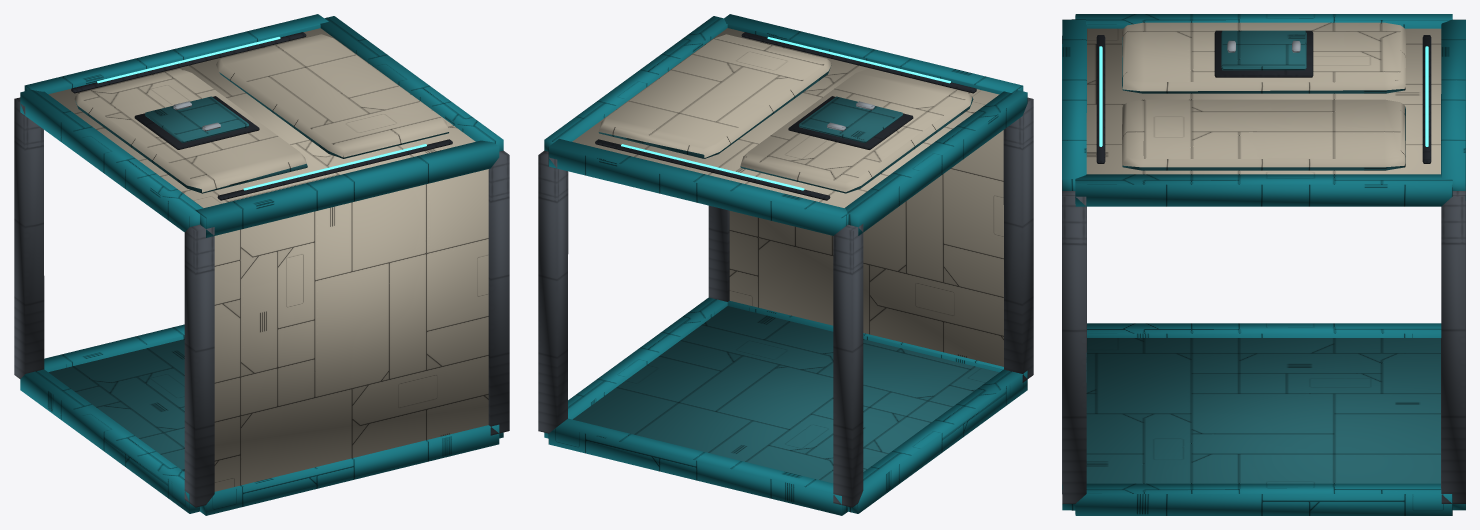
File: pressure_corridor_tee_lod2.glb
3 views of the same model, side by side, from view 1: azimuth 30°, elevation 25°; view 2: azimuth 150°, elevation 25°; view 3: azimuth 270°, elevation 25° (orthographic). The views are drawn at different scales.
Parts seen in each view (by area): view 1: LOD2_Hull, LOD2_Livery, LOD2_Mechanical, LOD2_Armor, LOD2_MechanicalDark, LOD2_Lights_Cyan; view 2: LOD2_Hull, LOD2_Livery, LOD2_Armor, LOD2_Mechanical, LOD2_MechanicalDark, LOD2_Lights_Cyan; view 3: LOD2_Armor, LOD2_Hull, LOD2_Livery, LOD2_Mechanical, LOD2_MechanicalDark, LOD2_Lights_Cyan.
Part boxes in pixels (x1,y1,x2,y2): LOD2_Hull: [48, 28, 488, 491]; LOD2_Livery: [20, 14, 503, 515]; LOD2_Mechanical: [14, 97, 509, 507]; LOD2_Armor: [48, 72, 448, 471]; LOD2_MechanicalDark: [71, 32, 452, 200]; LOD2_Lights_Cyan: [97, 37, 426, 190]; LOD2_Hull: [572, 28, 1003, 366]; LOD2_Livery: [544, 14, 1027, 515]; LOD2_Armor: [572, 65, 999, 483]; LOD2_Mechanical: [538, 97, 1033, 507]; LOD2_MechanicalDark: [595, 32, 976, 200]; LOD2_Lights_Cyan: [621, 37, 950, 190]; LOD2_Armor: [1086, 30, 1440, 483]; LOD2_Hull: [1086, 22, 1441, 174]; LOD2_Livery: [1062, 14, 1465, 515]; LOD2_Mechanical: [1062, 36, 1465, 503]; LOD2_MechanicalDark: [1096, 30, 1431, 163]; LOD2_Lights_Cyan: [1099, 46, 1428, 146].
Bounding box in the file's own units: 4.26 × 4.08 × 4.26.
Materials: 7 (6 with a texture image).
